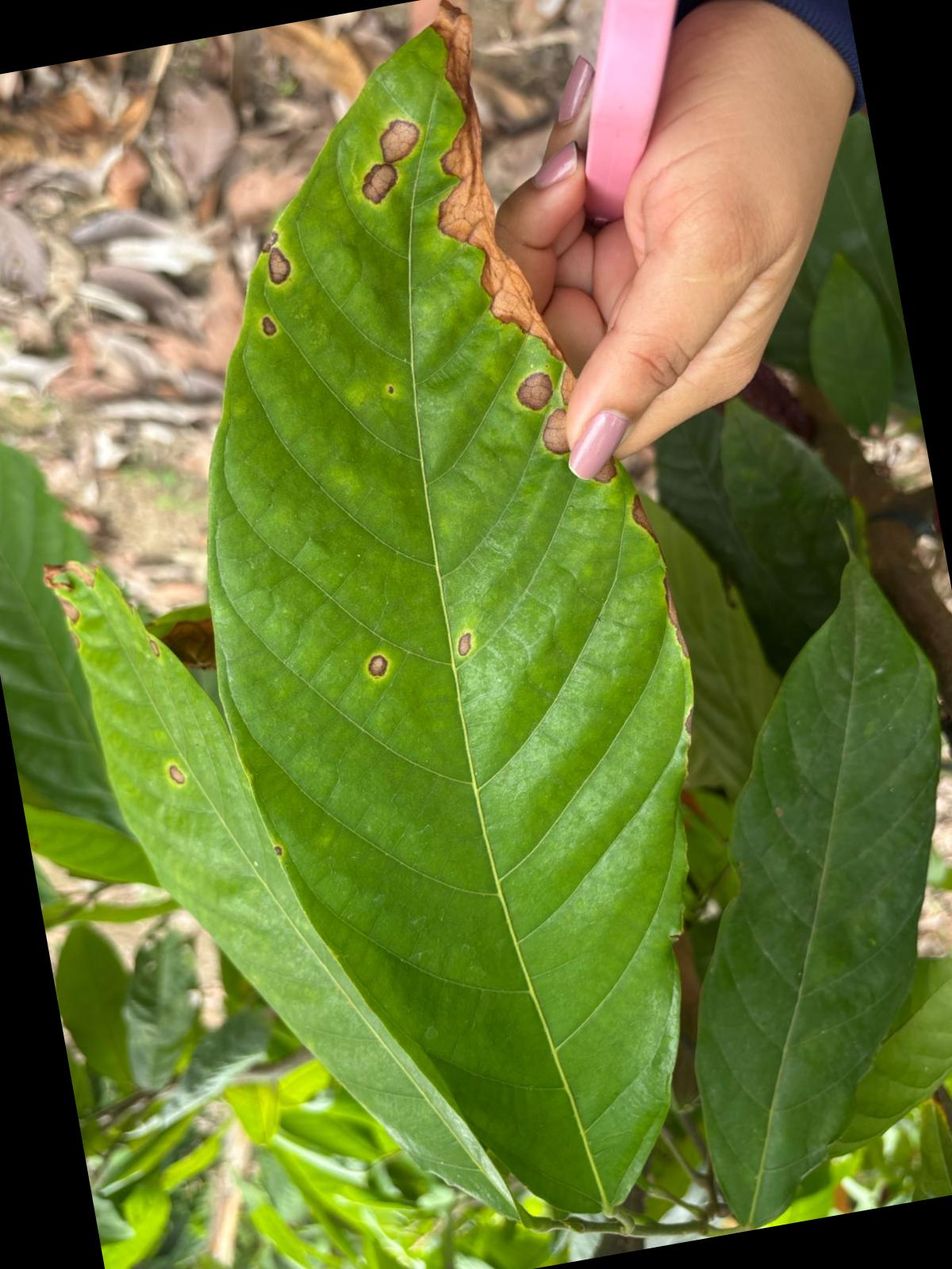Potasio: (210, 14, 693, 1213)
